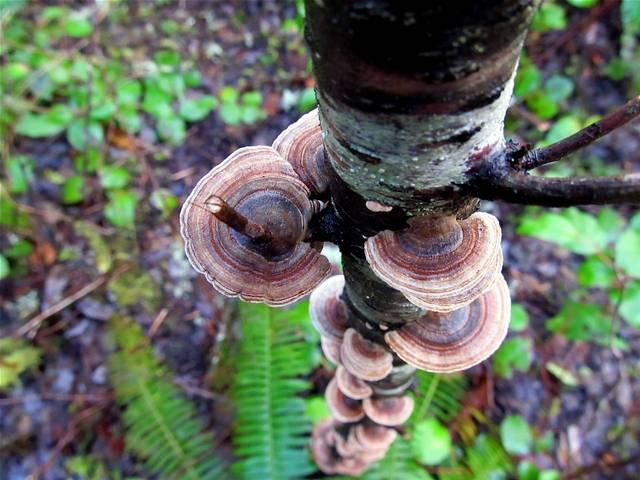poisonous_mushroom: (178, 144, 333, 308), (362, 208, 512, 373), (300, 280, 398, 480)
